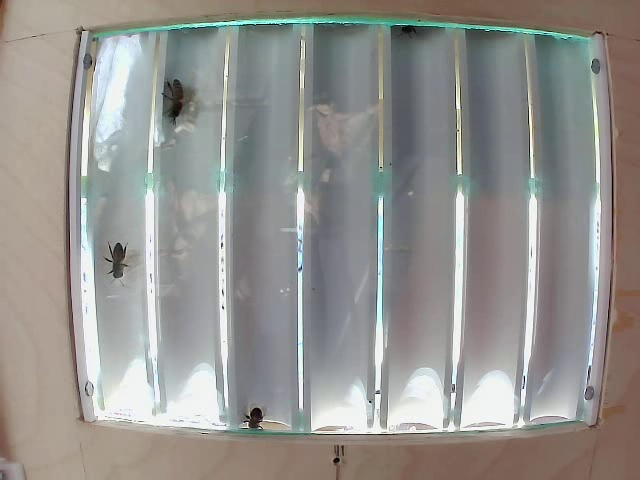bee: (94, 229, 139, 276), (158, 75, 194, 125)
